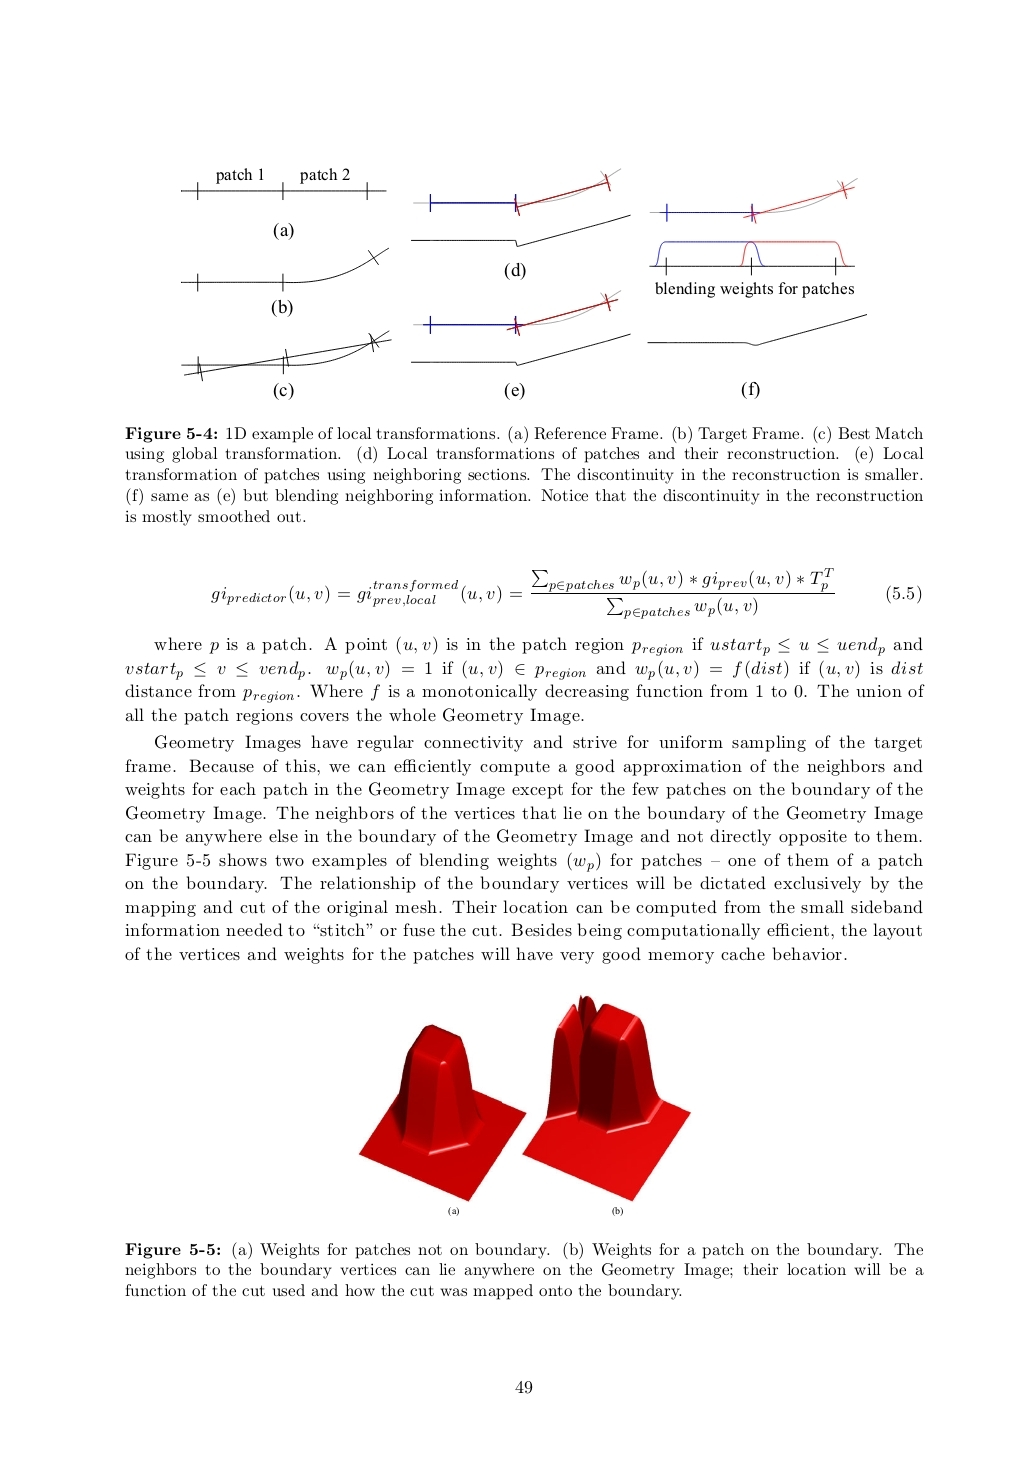figure: (358, 994, 690, 1202), (411, 167, 630, 247), (411, 289, 630, 366), (181, 329, 391, 400), (649, 177, 857, 224), (181, 247, 388, 292), (649, 239, 854, 276), (647, 312, 866, 346), (181, 167, 386, 200)
formula: (211, 567, 921, 619)
